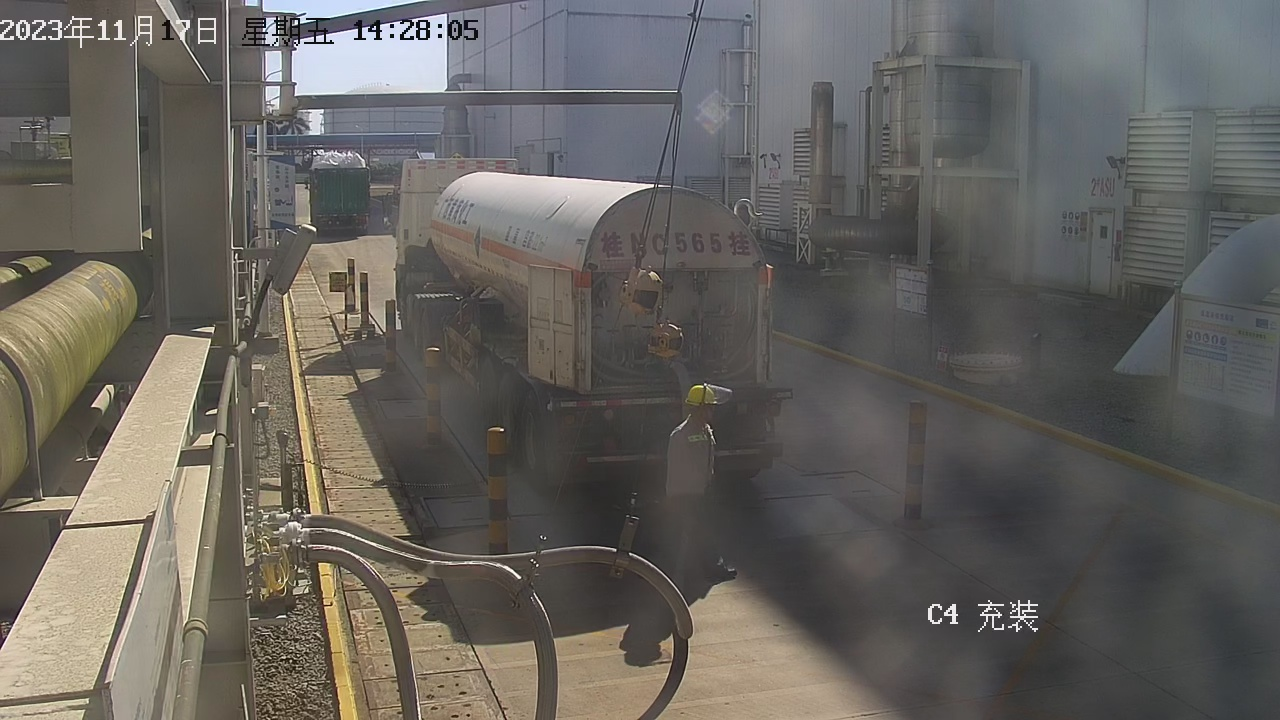Head_with_Helmet: (670, 374, 736, 427)
Uniform: (650, 411, 751, 589)
